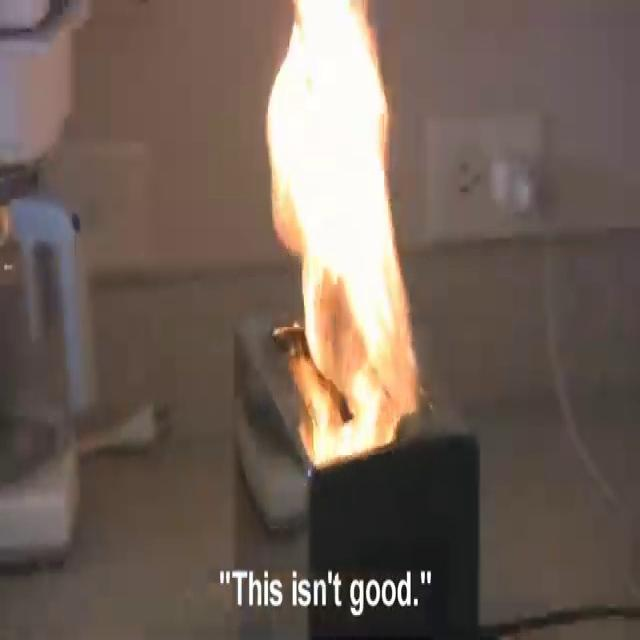fire: (252, 0, 442, 494)
